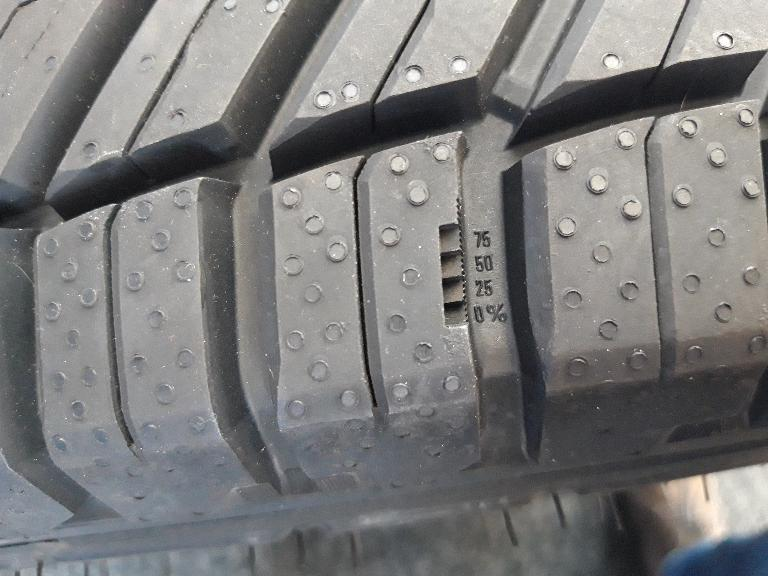temoin:100: (433, 195, 474, 333)
